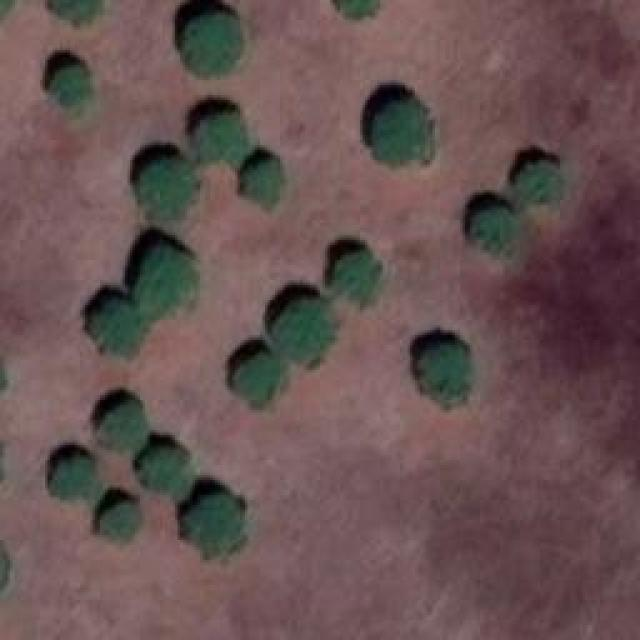Tree: (275, 300, 338, 360), (135, 160, 195, 220), (140, 248, 195, 313), (185, 495, 243, 553), (375, 103, 430, 163), (183, 15, 238, 73), (190, 113, 248, 166), (422, 345, 470, 405), (95, 305, 148, 358), (335, 252, 378, 300), (102, 405, 150, 448), (517, 160, 565, 203), (145, 448, 190, 493), (238, 355, 283, 398), (52, 458, 100, 498), (475, 208, 515, 253), (245, 163, 283, 206), (50, 67, 90, 105), (100, 503, 143, 538), (332, 0, 385, 21), (52, 0, 100, 20)
